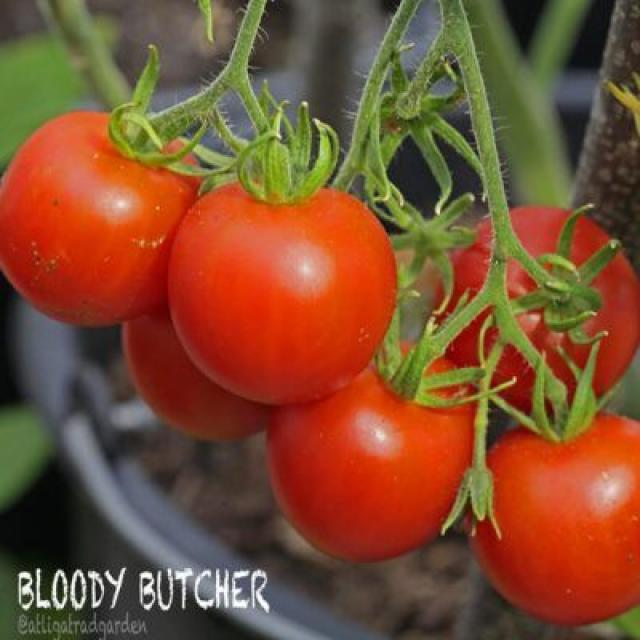level 6: (175, 176, 399, 403), (266, 345, 472, 563), (6, 108, 198, 330), (441, 211, 640, 414), (465, 416, 640, 640), (125, 259, 282, 447)
